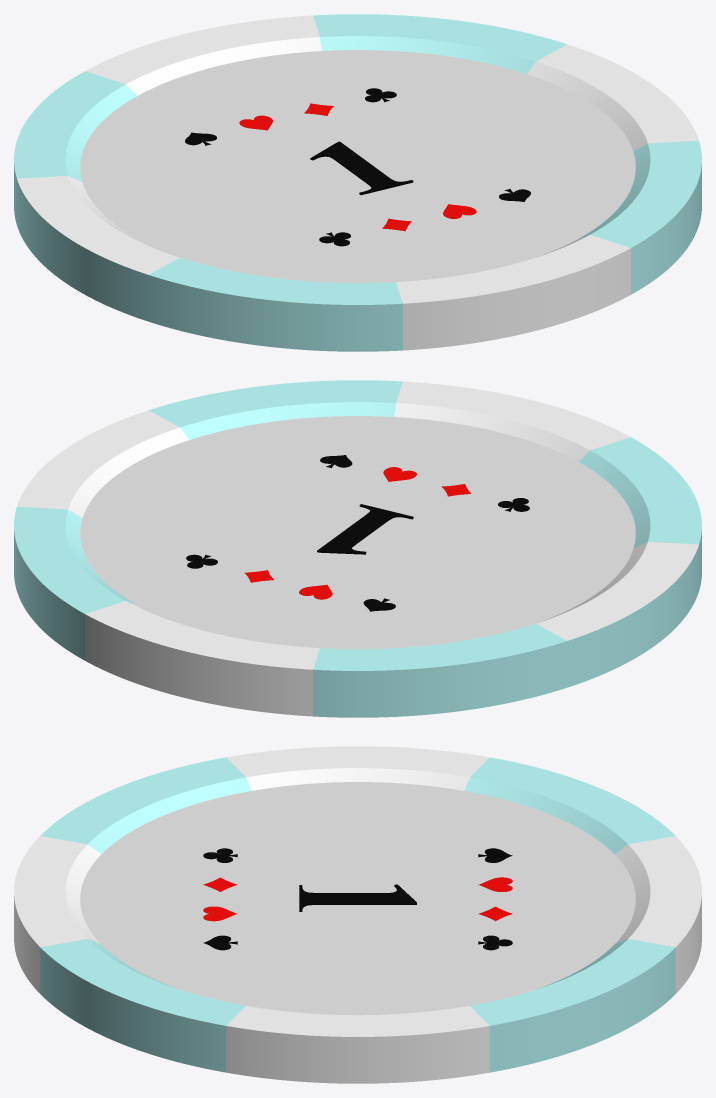
File: Value1Chip.fbx
3 views of the same model, one above another, from view 1: azimuth 30°, elevation 25°; view 2: azimuth 150°, elevation 25°; view 3: azimuth 270°, elevation 25° (orthographic).
Visible parts, largest first — view 1: Base, Value01; view 2: Base, Value01; view 3: Base, Value01.
Boxes of the visible parts, bbox=[...] form: Base: bbox=[14, 14, 701, 351]; Value01: bbox=[310, 141, 413, 195]; Base: bbox=[14, 380, 701, 717]; Value01: bbox=[317, 504, 413, 554]; Base: bbox=[14, 746, 701, 1083]; Value01: bbox=[299, 884, 416, 911].
Bounding box in the file's own units: 80 × 6 × 80.
